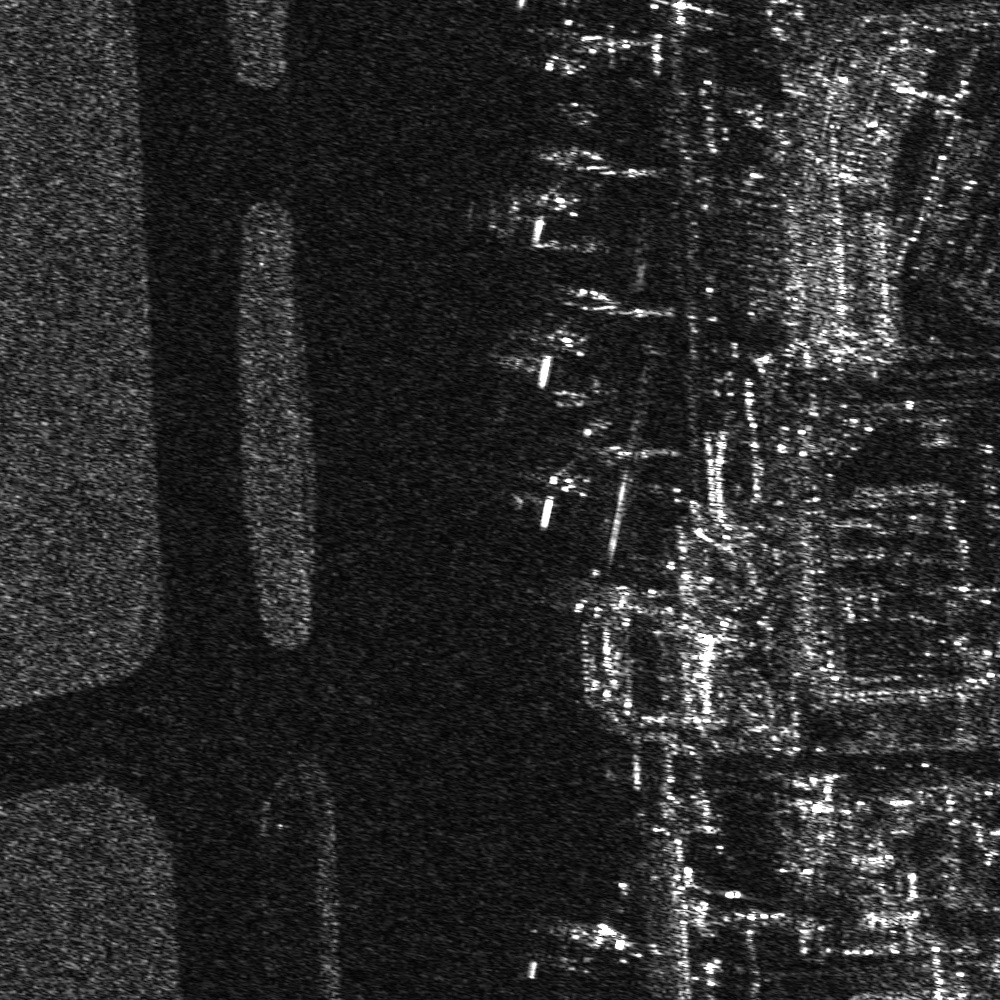A220: (517, 912, 656, 982)
